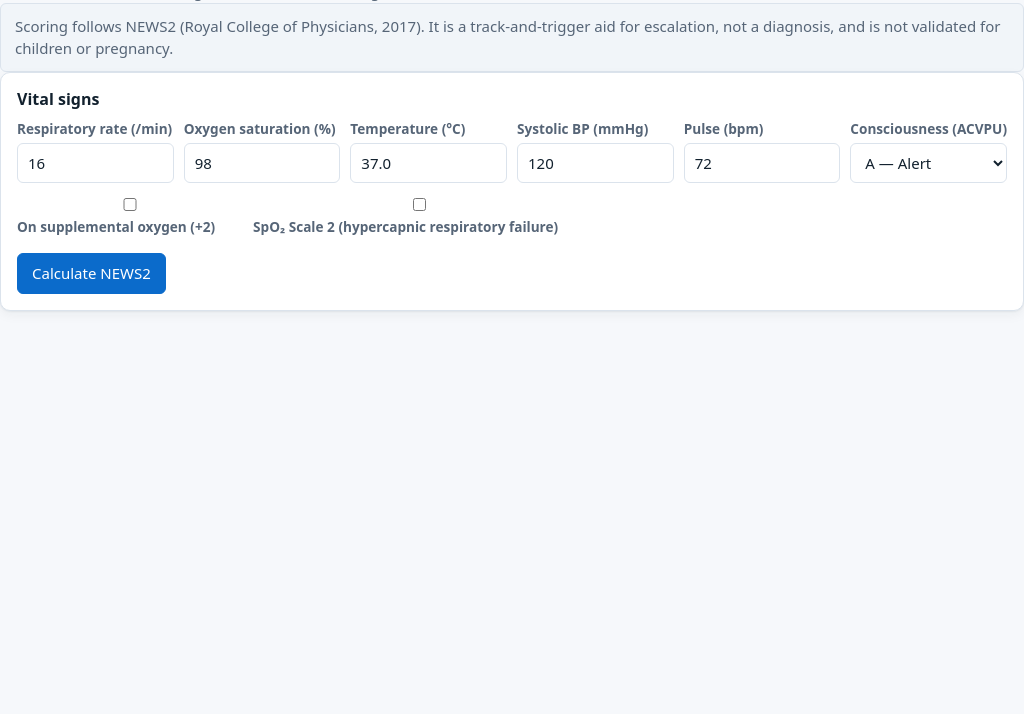
Test case: CdsPage escalate › enqueues the patient after a high-risk score
Click the button "Calculate NEWS2" at point(91, 273), box 17,253 -> 166,294
(page scrolled)
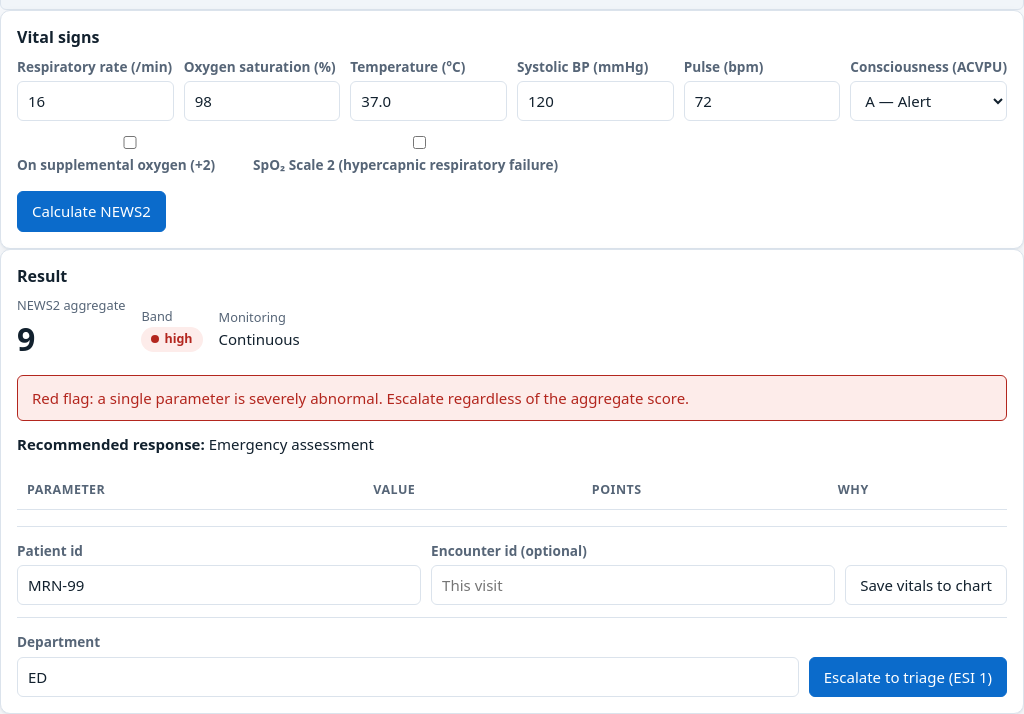
Expected: the text "high" is shown, 142,327 -> 203,352
Click the button "Escalate to triage (ESI 1)" at point(908, 677), box 809,657 -> 1007,697
(page scrolled)
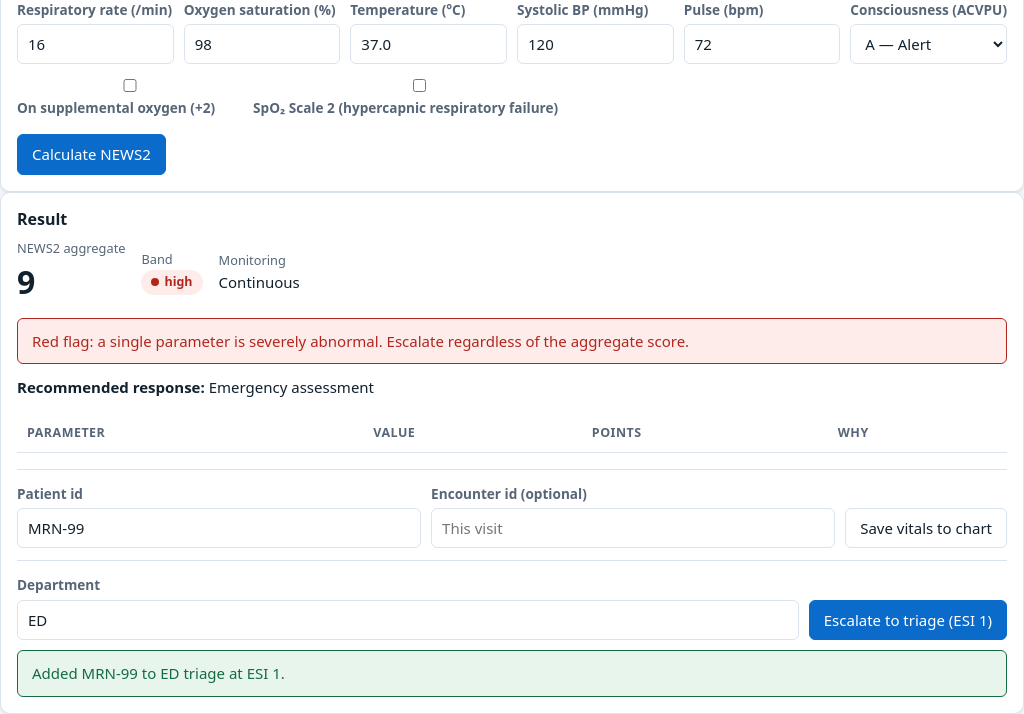
Expected: the text "Added MRN-99 to ED triage at ESI 1." is shown, 32,662 -> 285,685
